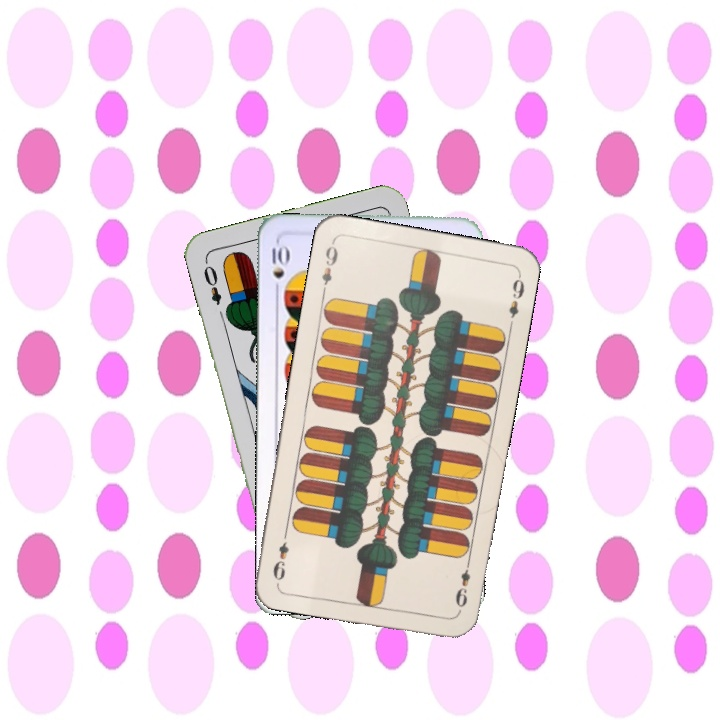E9: (318, 238, 341, 297), (451, 556, 473, 615)
EO: (199, 257, 224, 308)
S10: (267, 239, 290, 298)
